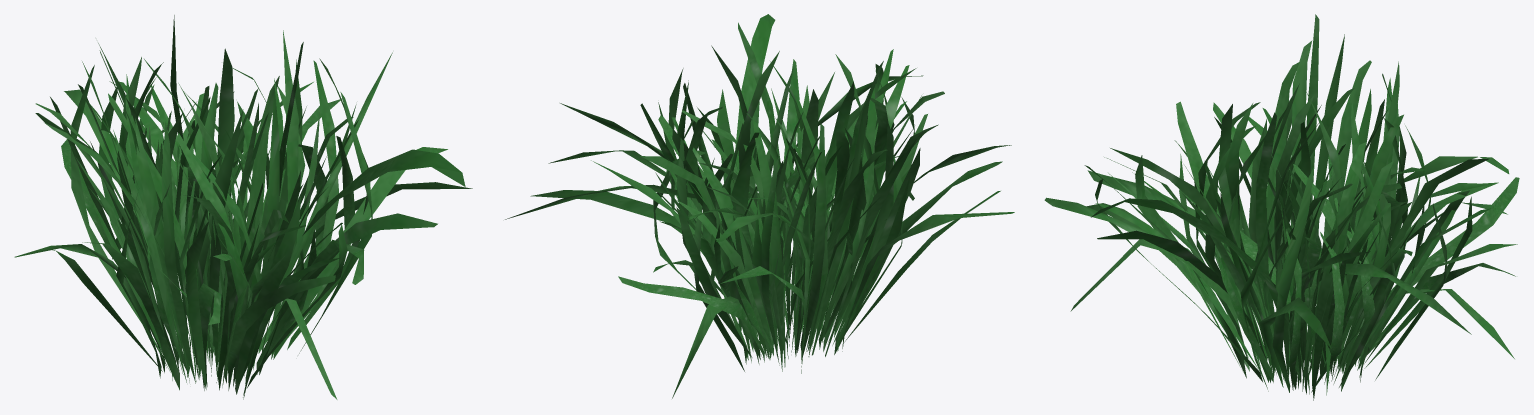
File: grass2.fbx
The picture shows the model from 3 angles, left to right: view 1: azimuth 30°, elevation 25°; view 2: azimuth 150°, elevation 25°; view 3: azimuth 270°, elevation 25°; orthographic projection. The views are drawn at different scales.
Visible parts, largest first — view 1: High grass clump; view 2: High grass clump; view 3: High grass clump.
Boxes of the visible parts, bbox=[...] form: High grass clump: bbox=[14, 15, 472, 399]; High grass clump: bbox=[505, 14, 1014, 398]; High grass clump: bbox=[1044, 14, 1519, 400].
Bounding box in the file's own units: 29.12 × 19.99 × 26.63.
